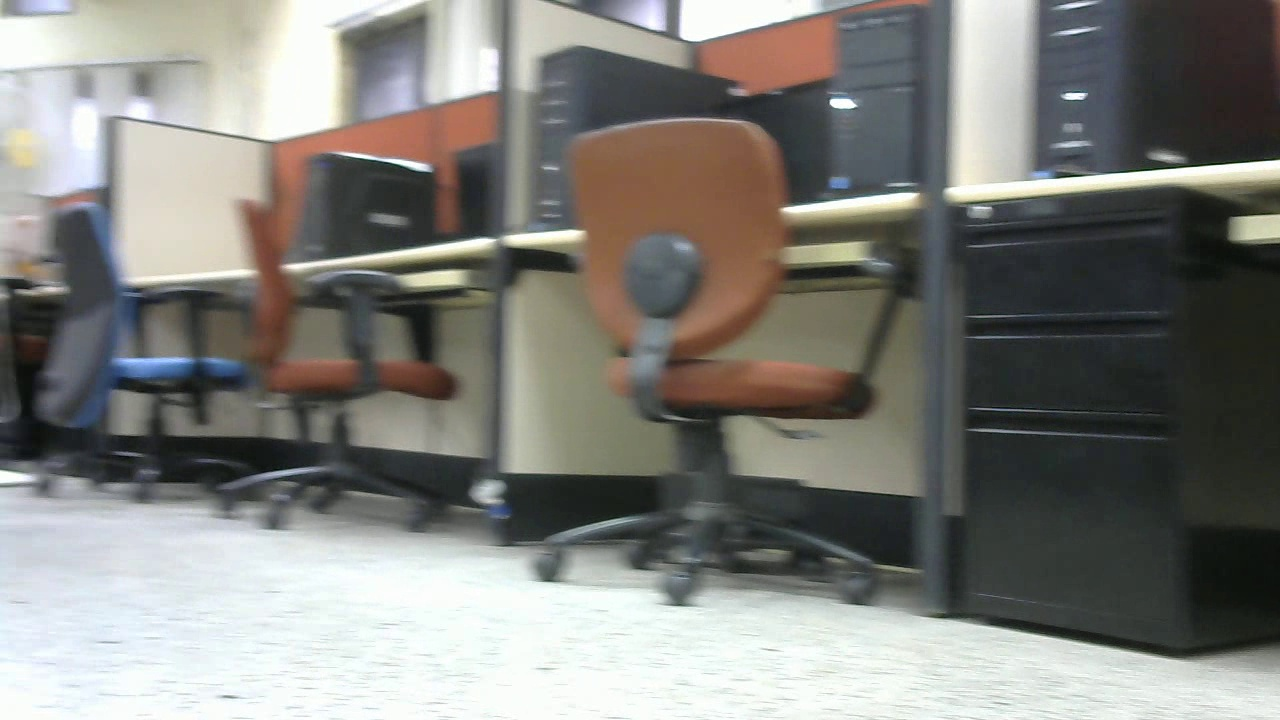chair: (529, 116, 902, 608), (218, 193, 459, 543), (34, 200, 245, 512)
